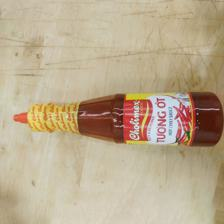Tuong: (10, 90, 224, 149)
